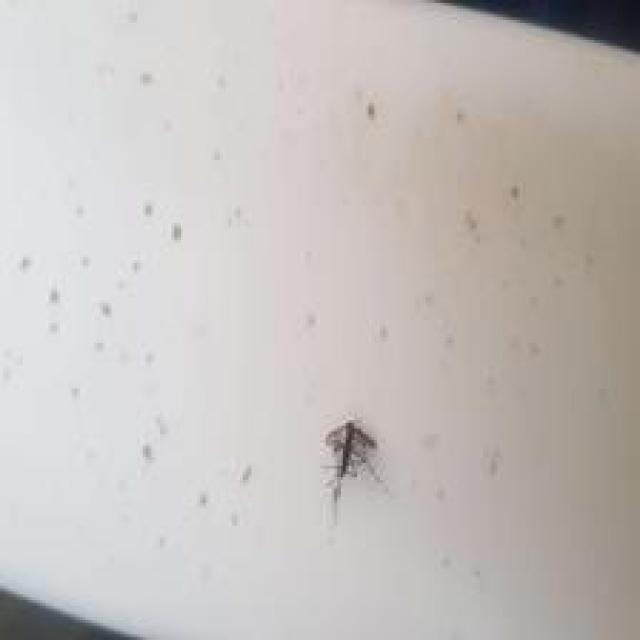Aedes albopictus: (320, 419, 386, 524)
